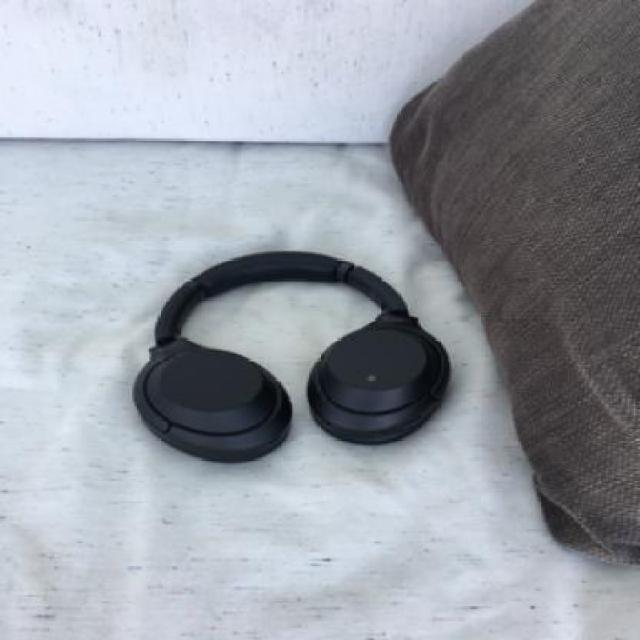earphone: (118, 168, 410, 392)
